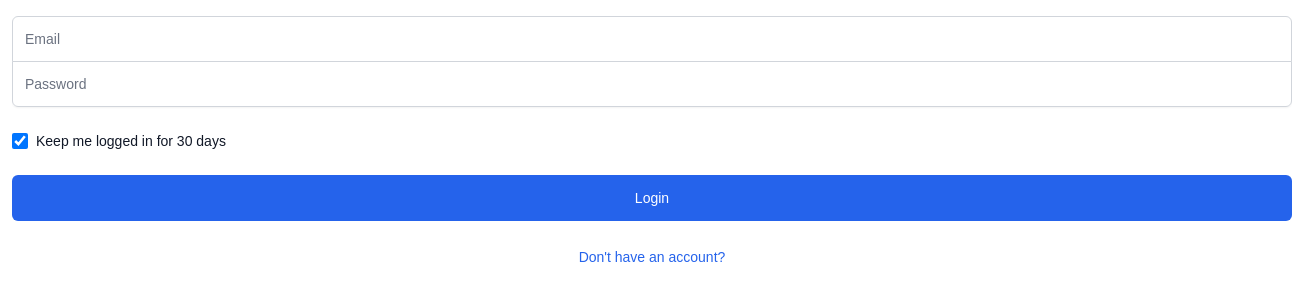
Test: LoginForm › Remember Me Checkbox › should not display remember me checkbox on signup form
Switch to signup mode
Step 1. Click the button "Don't have an account?" → coordinates (652, 257), box [579,247,725,267]
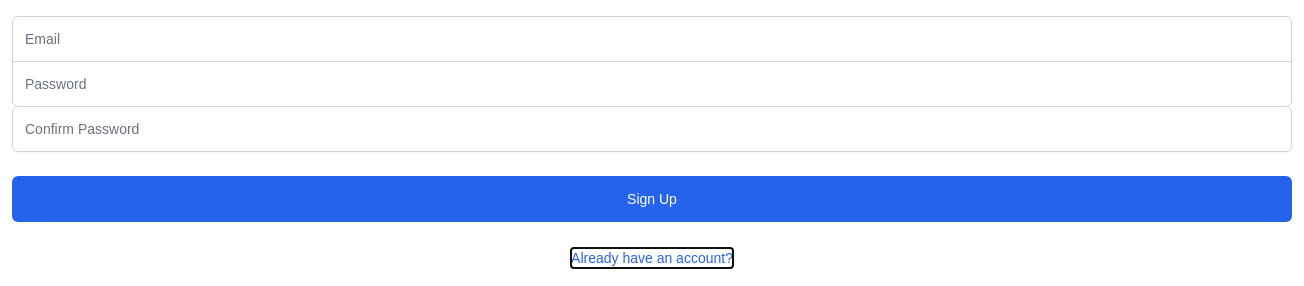
Expected: the label "Keep me logged in for 30 days" is gone
